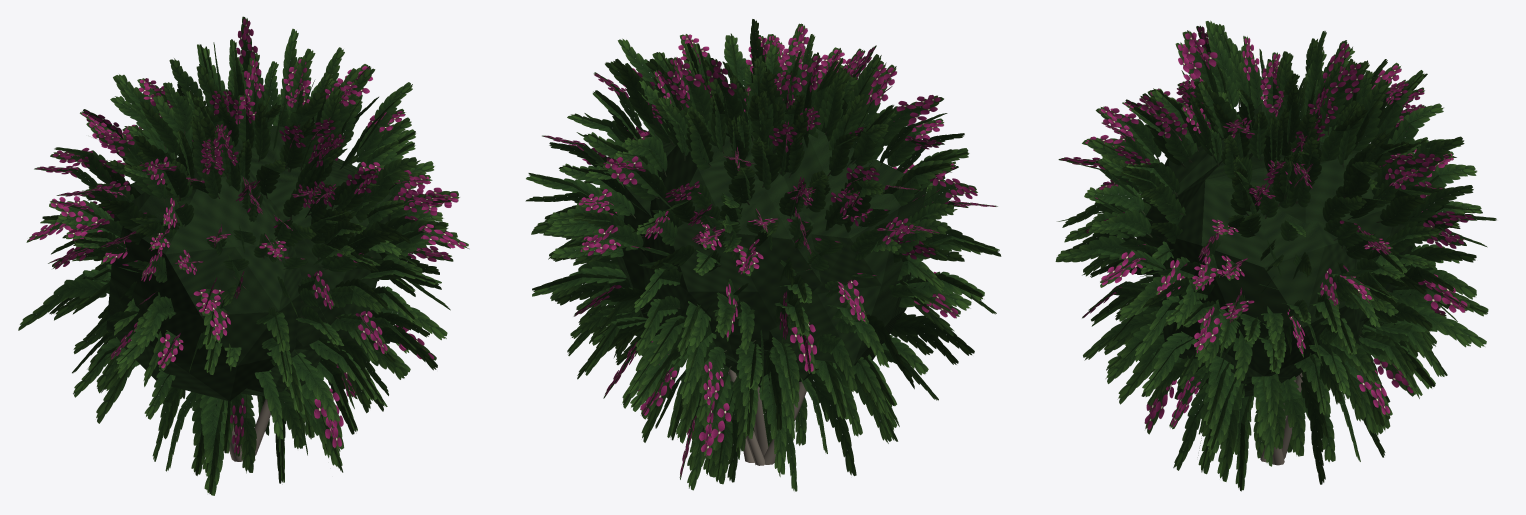
File: arbusto_flores.glb
3 views of the same model, side by side, from view 1: azimuth 30°, elevation 25°; view 2: azimuth 150°, elevation 25°; view 3: azimuth 270°, elevation 25° (orthographic). The views are drawn at different scales.
Parts seen in each view (by area): view 1: Arbusto_Flores_Magenta; view 2: Arbusto_Flores_Magenta; view 3: Arbusto_Flores_Magenta.
Boxes of the visible parts, <box> form: Arbusto_Flores_Magenta: <box>18,16,469,495</box>; Arbusto_Flores_Magenta: <box>525,19,1001,491</box>; Arbusto_Flores_Magenta: <box>1055,20,1496,491</box>.
Size of the model in its own units: 2.15 by 2.17 by 2.06.
4 materials, 3 textured.
